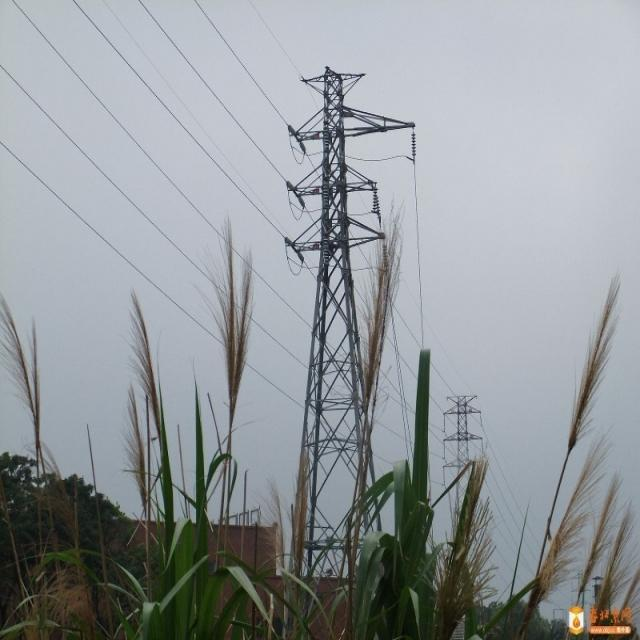non-critical vegetation: (278, 60, 417, 582), (441, 391, 484, 574)
